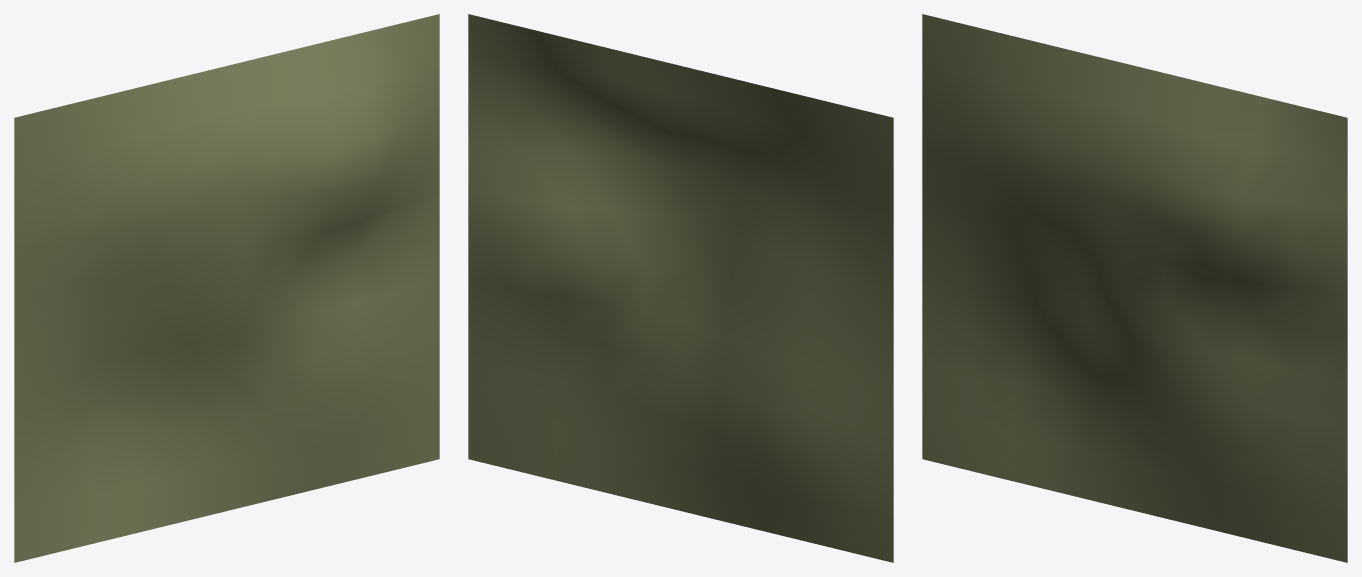
File: rockyHills.dae
The picture shows the model from 3 angles, left to right: view 1: azimuth 30°, elevation 25°; view 2: azimuth 150°, elevation 25°; view 3: azimuth 330°, elevation 25°; orthographic projection.
Visible parts, largest first — view 1: plains; view 2: plains; view 3: plains.
Boxes of the visible parts, left/top/right/bottom form: plains: left=14, top=14, right=439, bottom=562; plains: left=468, top=14, right=893, bottom=562; plains: left=922, top=14, right=1347, bottom=562.
Size of the model in its own units: 1 by 0.1357 by 1.
1 material, 1 textured.
